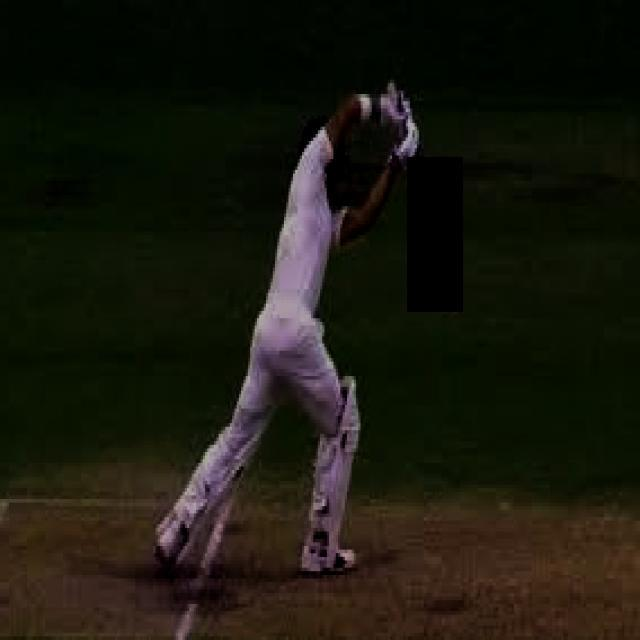bat: (410, 106, 549, 157)
